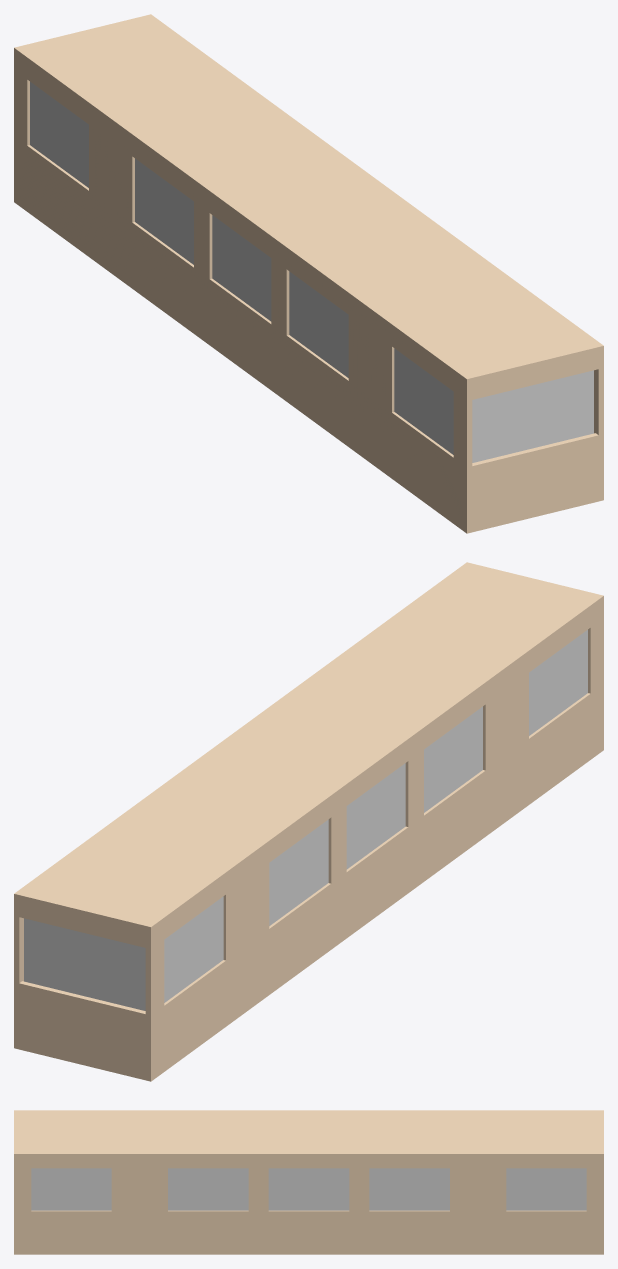
File: train.glb
The picture shows the model from 3 angles, top to bottom: view 1: azimuth 30°, elevation 25°; view 2: azimuth 150°, elevation 25°; view 3: azimuth 270°, elevation 25°; orthographic projection. The views are drawn at different scales.
Parts seen in each view (by area): view 1: body, window; view 2: body, window; view 3: body, window.
Boxes of the visible parts, <box> form: body: <box>14,14,603,533</box>; window: <box>30,82,593,462</box>; body: <box>14,562,603,1081</box>; window: <box>24,630,587,1010</box>; body: <box>14,1110,603,1254</box>; window: <box>31,1168,586,1210</box>.
Size of the model in its own units: 2.6 by 2.8 by 14.88.
